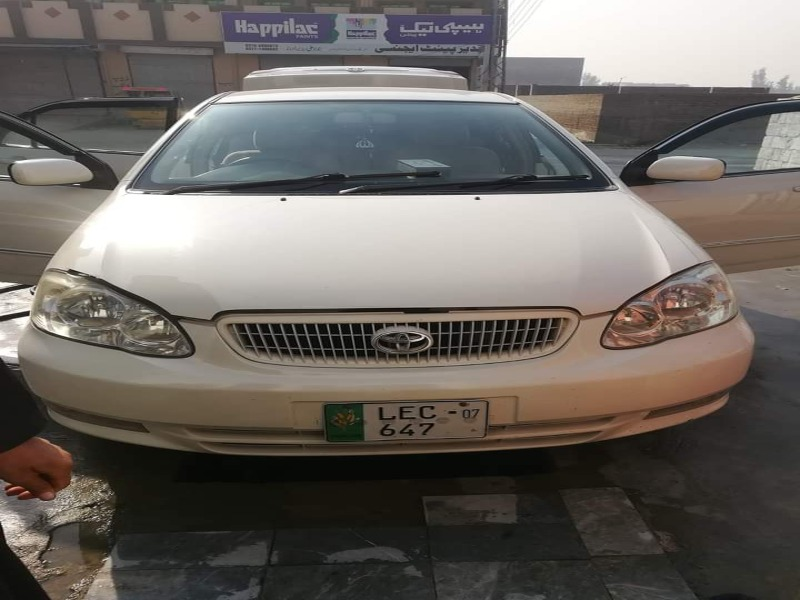License Plate: (318, 400, 495, 445)
